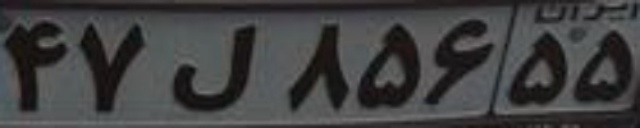4: (2, 21, 67, 111)
5: (357, 21, 419, 109), (508, 30, 567, 107), (573, 28, 632, 102)
6: (431, 18, 493, 105)
7: (78, 21, 151, 114)
8: (283, 23, 350, 113)
lam: (170, 23, 255, 113)
